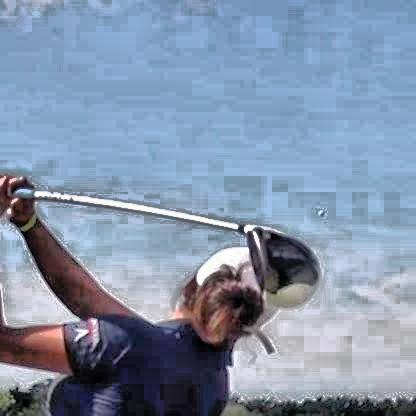golfball: (315, 206, 323, 214)
